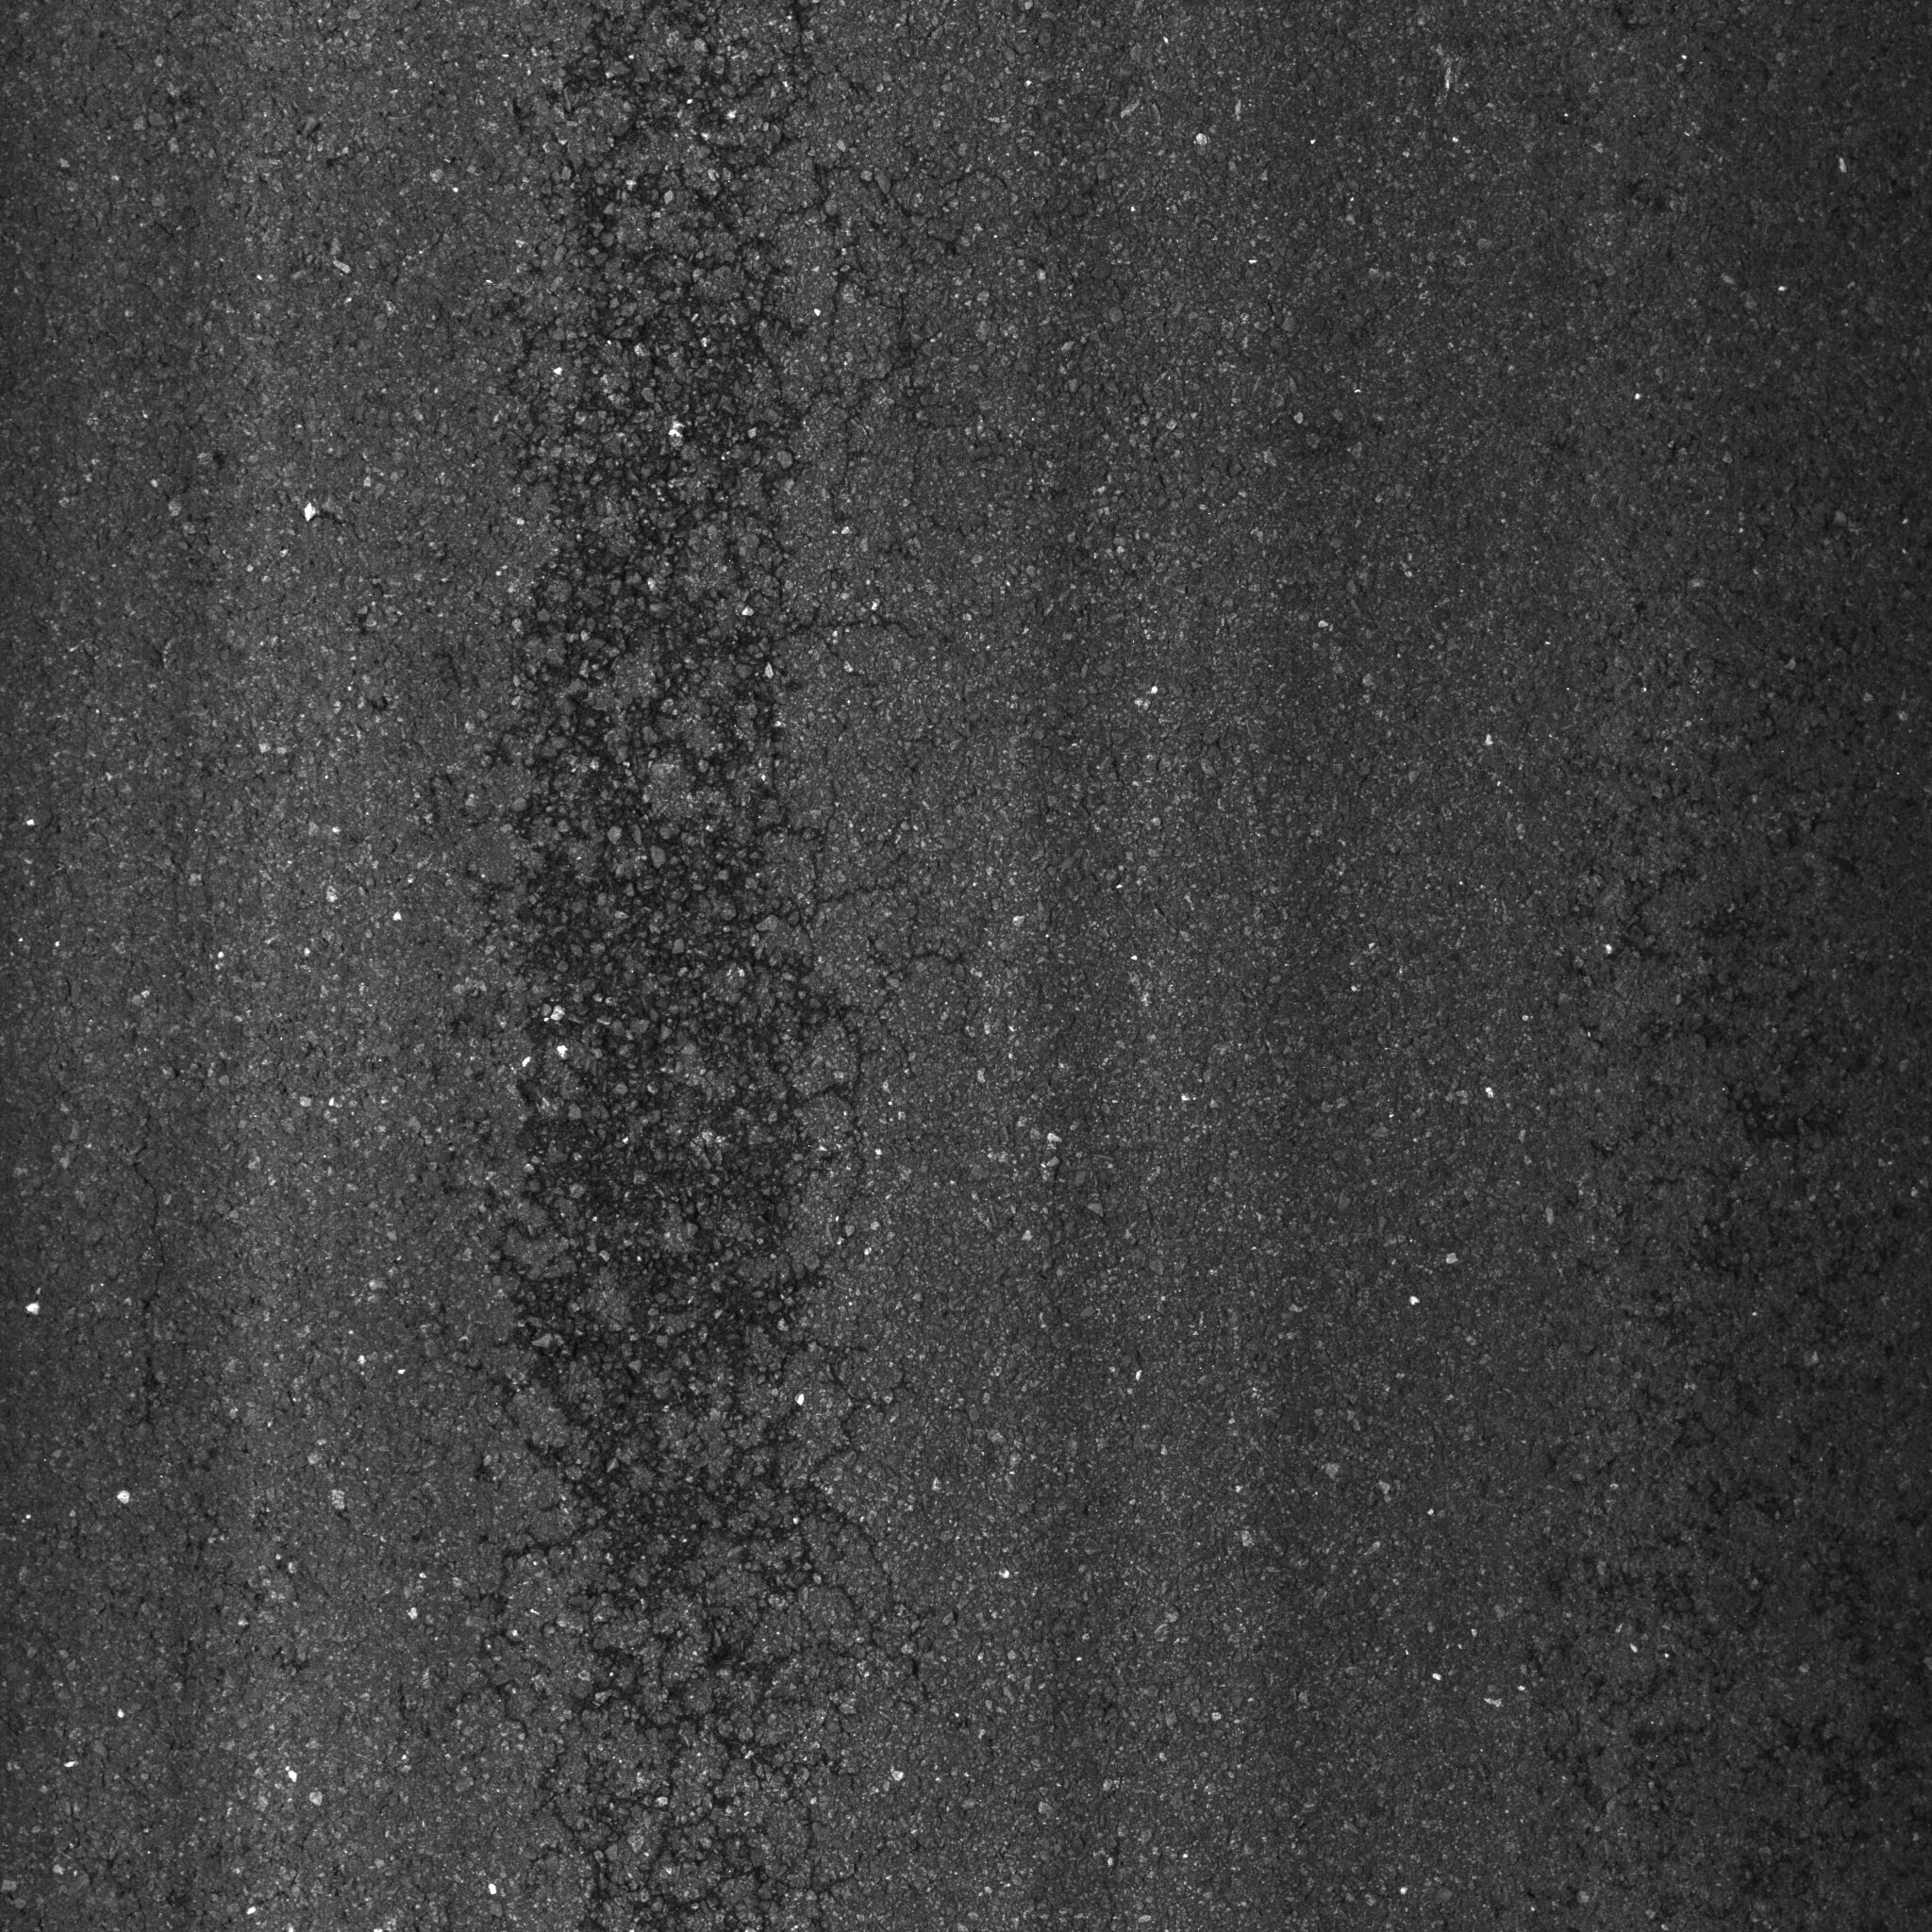alligator: (407, 7, 1049, 1932)
